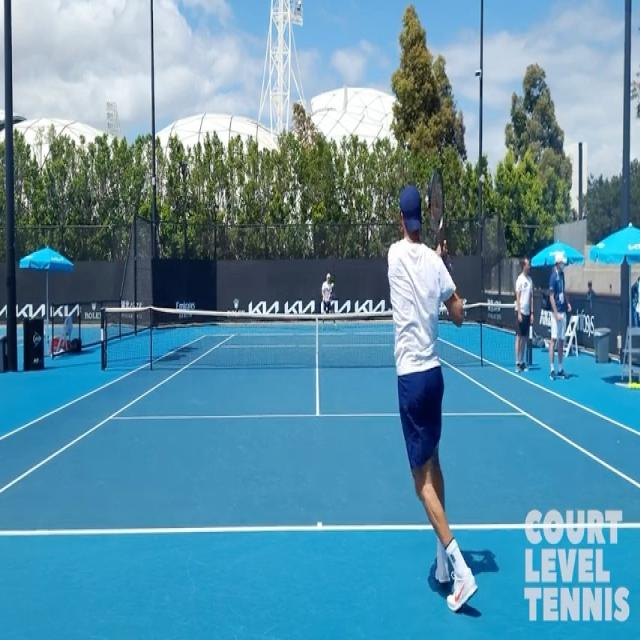forehand-finish: (376, 178, 483, 617)
